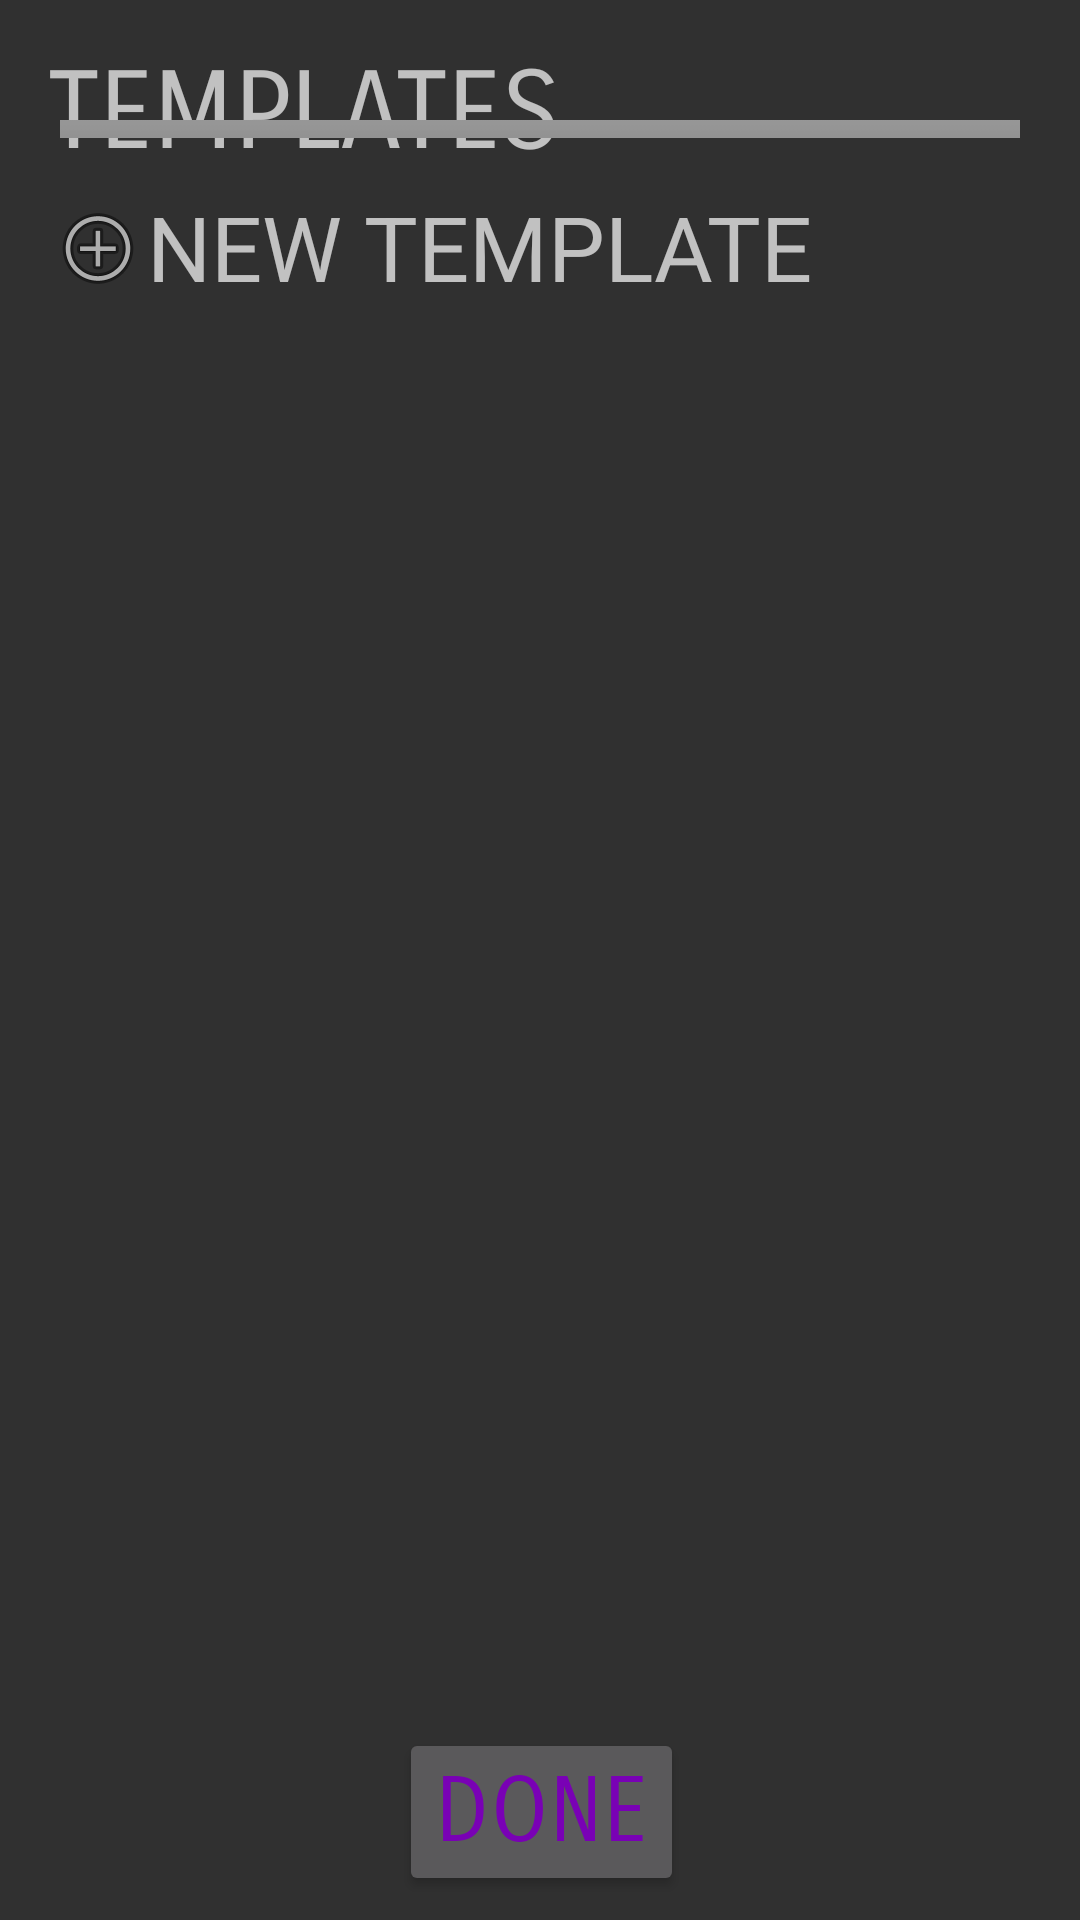

Icon bounding boxes for this 1080px×1920px phone screenshot, format bbox(x1, y1, x2, y2):
add: bbox(65, 215, 131, 282)
